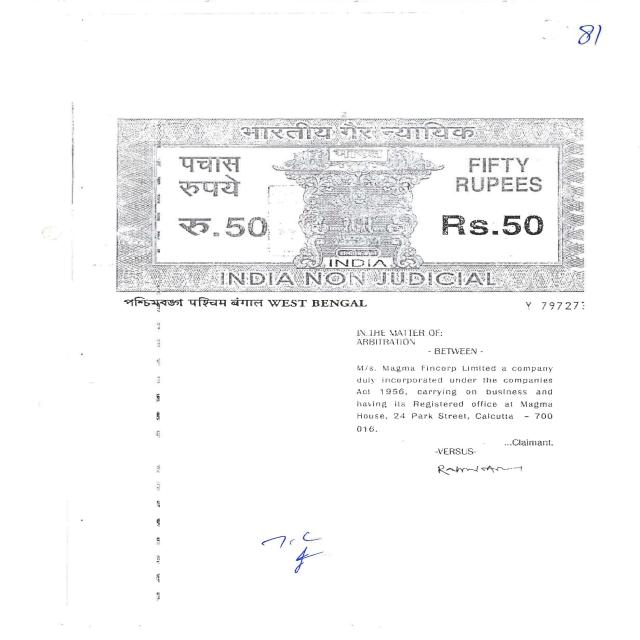page-number: (377, 2, 636, 114)
